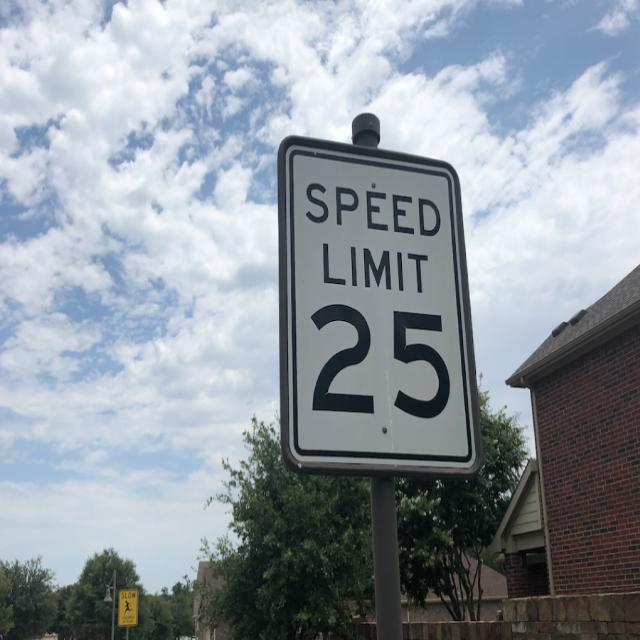speedLimit25: (284, 139, 480, 467)
